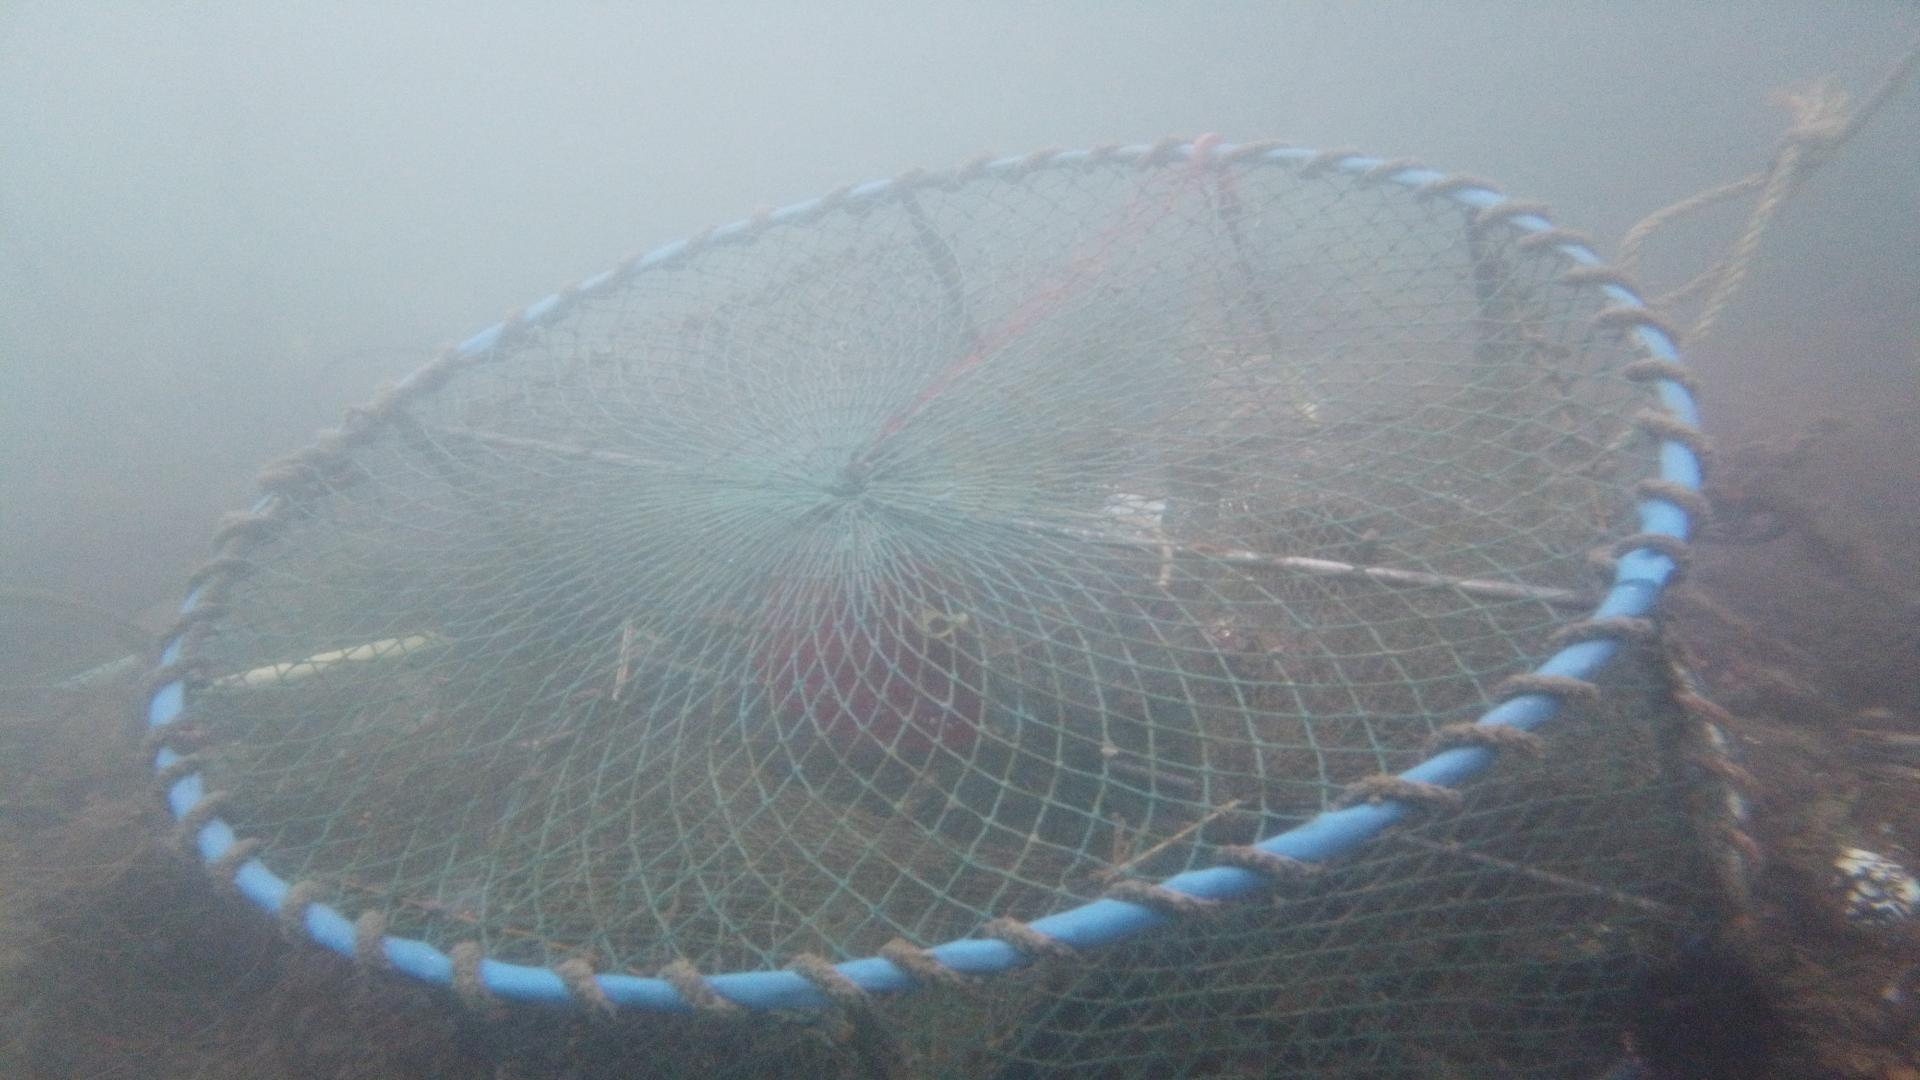bundle of ropes: (1609, 26, 1920, 368)
circular fish trap: (135, 123, 1767, 1080)
